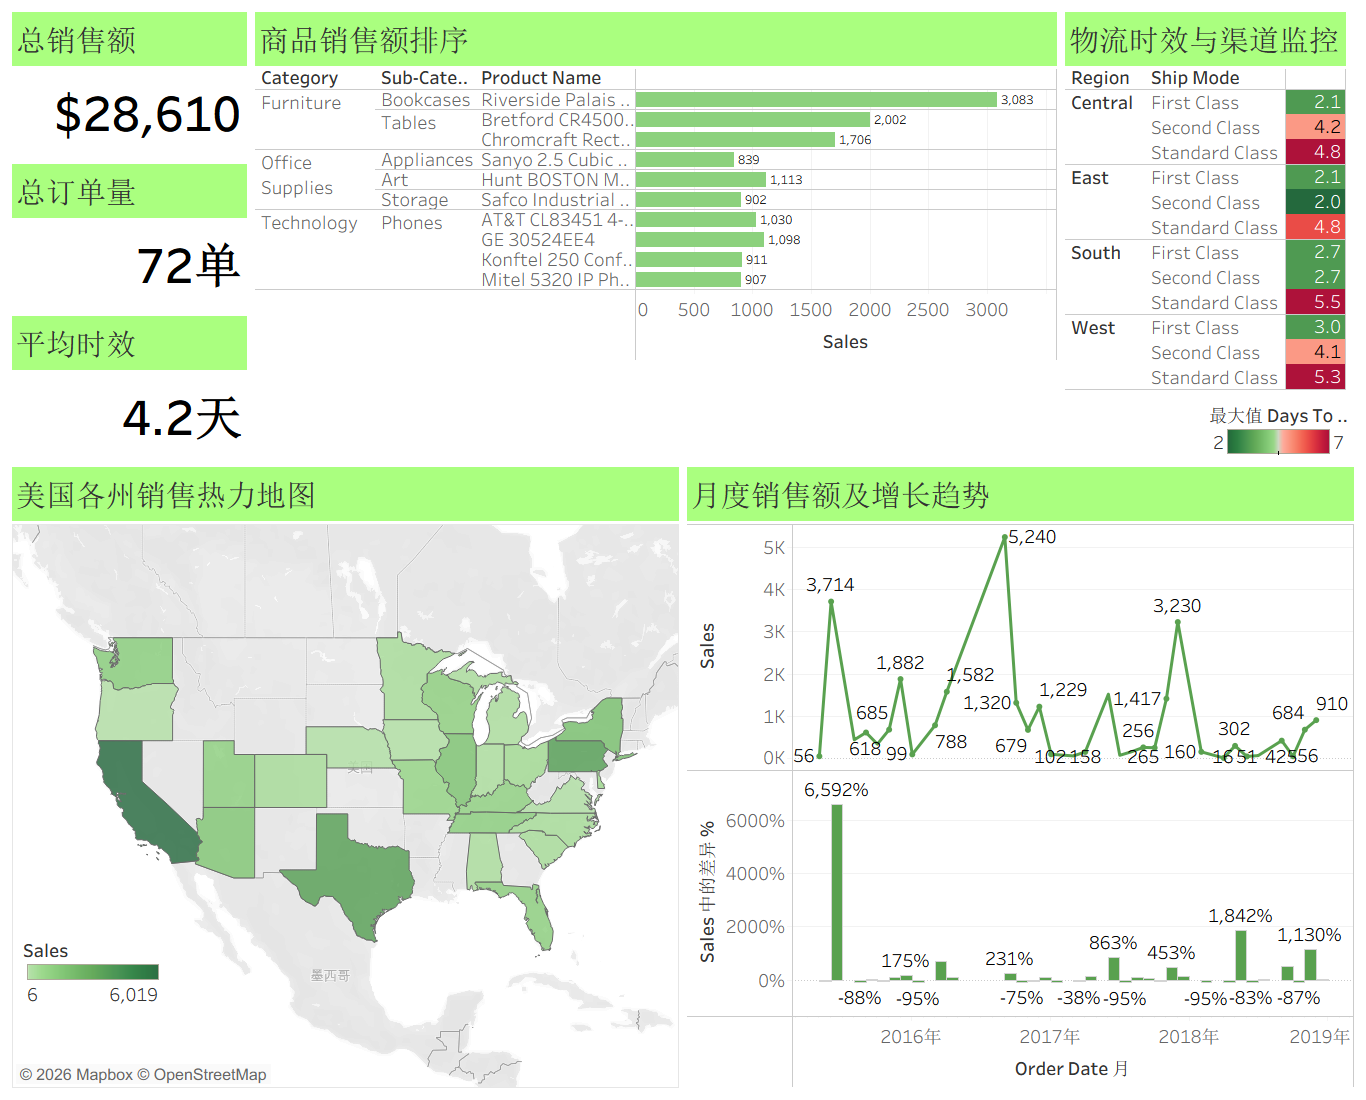

The page's visual inventory and layout, read from the dashboard file:
{"tool":"tableau","page":{"name":"超市综合运营看板","canvas":[1366,1100],"ordinal":0},"visuals":[{"type":"worksheet","title":"总销售额","mark":"Automatic","box":[8,8,243,152]},{"type":"worksheet","title":"商品销售额排序","mark":"Automatic","rows":["Category","Sub-Category","Product Name"],"cols":["sales"],"box":[250.8,8,810.2,455]},{"type":"worksheet","title":"物流时效与渠道监控","mark":"Square","rows":["Region","Ship Mode"],"box":[1061,8,297,455]},{"type":"worksheet","title":"总订单量","mark":"Automatic","box":[8,160,243,152]},{"type":"worksheet","title":"平均时效","mark":"Automatic","box":[8,312,243,151]},{"type":"legend","title":"物流时效与渠道监控","param":"[federated.0d1joxj1ywr5c51f0hjic155zfv0].[max:days_to_ship:qk]","box":[1209,398,140,59]},{"type":"worksheet","title":"美国各州销售热力地图","mark":"Multipolygon","box":[8,463,675,629]},{"type":"worksheet","title":"月度销售额及增长趋势","mark":"Automatic","rows":["sales","sales"],"cols":["order_date"],"box":[683,463,675,629]},{"type":"legend","title":"美国各州销售热力地图","param":"[federated.0d1joxj1ywr5c51f0hjic155zfv0].[sum:sales:qk]","box":[23,932.7,140,114.6]}]}

Visuals, with their boxes in screenshot pixels (x1, y1, x2, y2), scaled from the page's 1366x1100 canvas onto the 1366x1100 screenshot:
"总销售额" worksheet: <box>8,8,251,160</box>
"商品销售额排序" worksheet: <box>251,8,1061,463</box>
"物流时效与渠道监控" worksheet (Square marks): <box>1061,8,1358,463</box>
"总订单量" worksheet: <box>8,160,251,312</box>
"平均时效" worksheet: <box>8,312,251,463</box>
"物流时效与渠道监控" legend: <box>1209,398,1349,457</box>
"美国各州销售热力地图" worksheet (Multipolygon marks): <box>8,463,683,1092</box>
"月度销售额及增长趋势" worksheet: <box>683,463,1358,1092</box>
"美国各州销售热力地图" legend: <box>23,933,163,1047</box>
